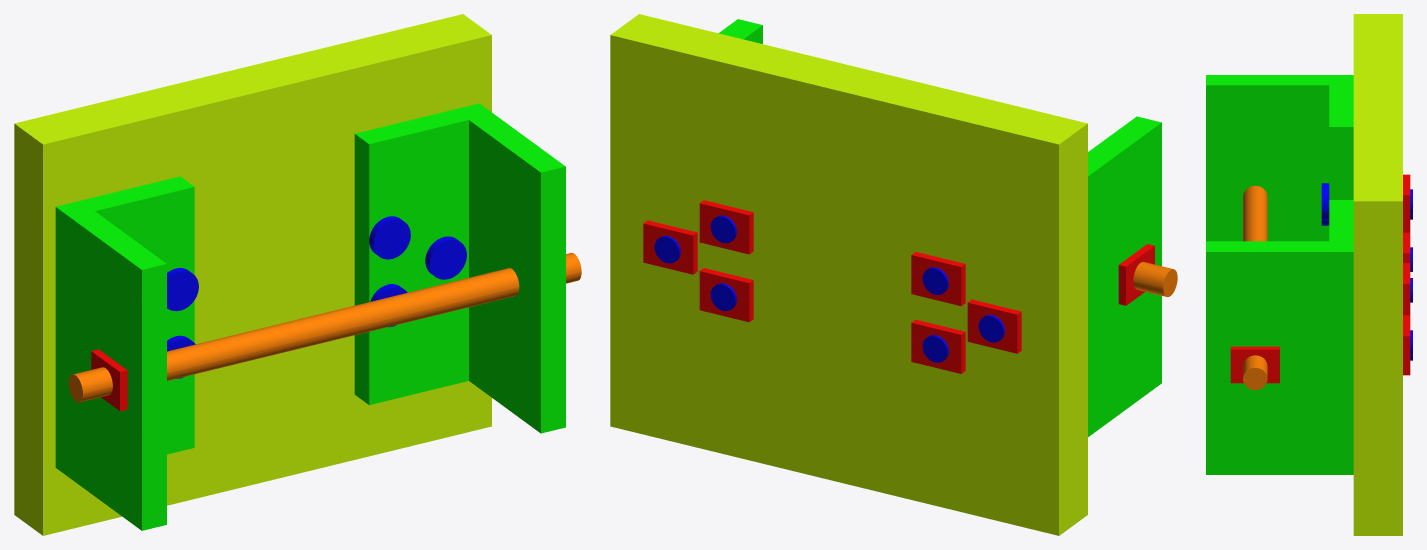
Rendered from sample_assembly.glb.
The picture shows the model from 3 angles, left to right: view 1: azimuth 30°, elevation 25°; view 2: azimuth 150°, elevation 25°; view 3: azimuth 270°, elevation 25°; orthographic projection. The views are drawn at different scales.
Parts seen in each view (by area): view 1: plate, l-bracket (×2), rod, bolt (×3), nut; view 2: plate, l-bracket (×2), nut (×7), rod; view 3: l-bracket (×2), plate, nut (×4), rod, bolt.
Boxes of the visible parts, left/top/right/bottom form: plate: left=14, top=14, right=491, bottom=535; l-bracket (×2): left=55, top=103, right=565, bottom=530; rod: left=68, top=252, right=581, bottom=402; bolt (×3): left=167, top=216, right=466, bottom=311; nut: left=91, top=349, right=127, bottom=411; plate: left=610, top=14, right=1087, bottom=535; l-bracket (×2): left=719, top=19, right=1161, bottom=436; nut (×7): left=643, top=200, right=1154, bottom=373; rod: left=1133, top=261, right=1177, bottom=297; l-bracket (×2): left=1206, top=75, right=1353, bottom=474; plate: left=1353, top=14, right=1402, bottom=535; nut (×4): left=1230, top=174, right=1410, bottom=383; rod: left=1243, top=185, right=1267, bottom=390; bolt: left=1321, top=183, right=1412, bottom=220.
Bounding box in the file's own units: 200 × 150 × 84.
